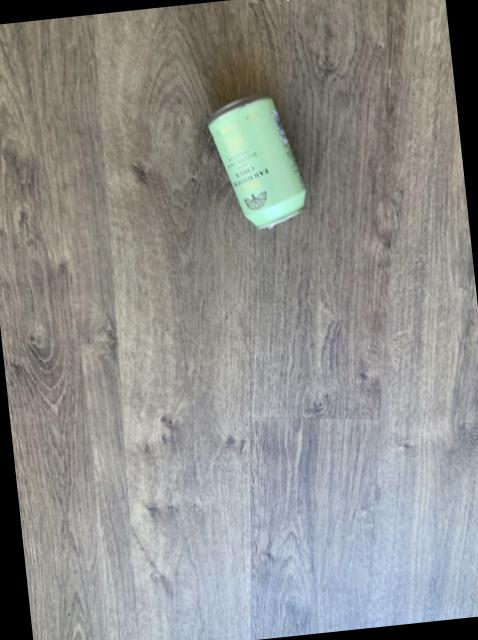metal: (209, 96, 306, 230)
